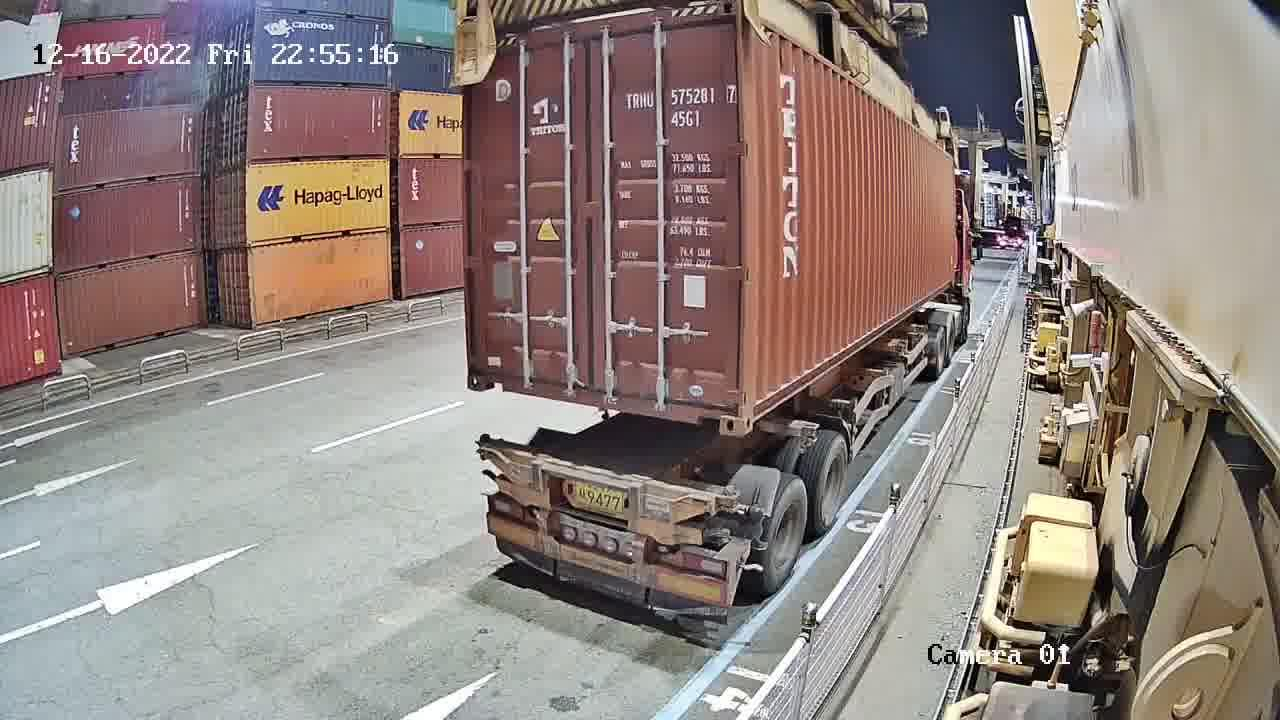Chassis: (470, 442, 738, 543)
Cone: (719, 491, 747, 511)
Container: (467, 353, 738, 446)
Hole_L: (470, 350, 509, 395), (736, 392, 766, 444)
Hole_R: (697, 398, 737, 442)
Tire: (765, 482, 805, 590), (818, 439, 848, 529)
